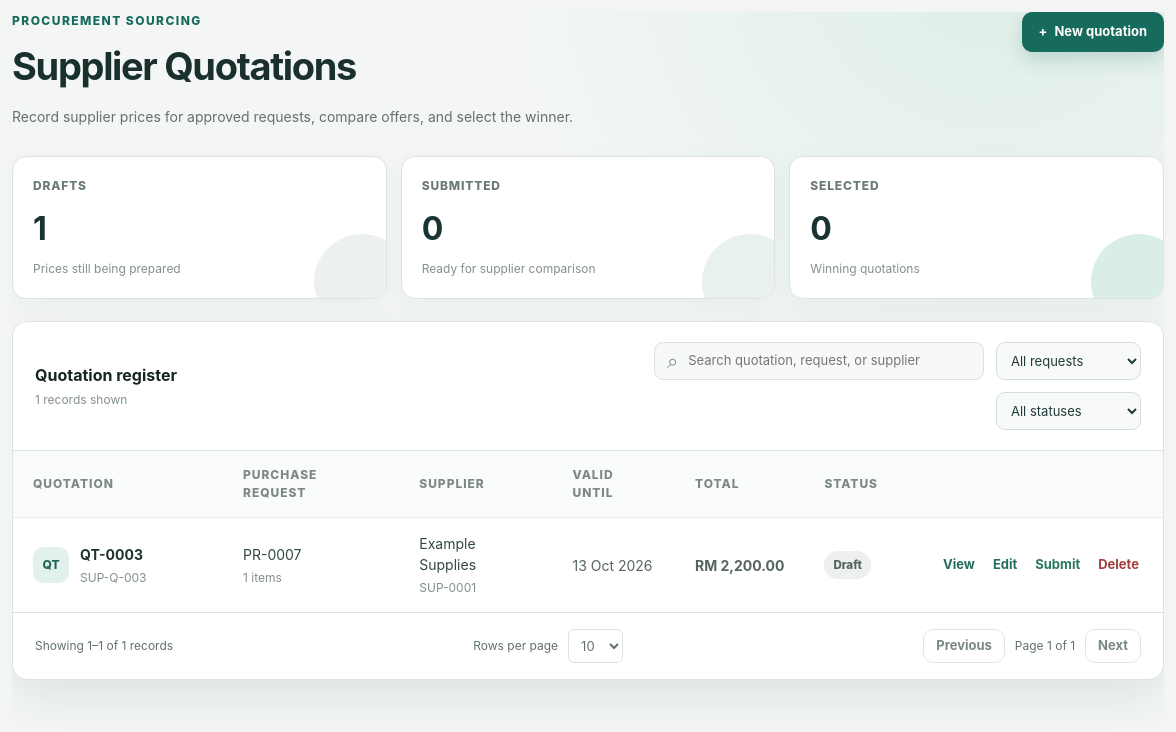
Test case: QuotationListView › submits a draft, shows a toast, and reloads the register
Click the button "Submit" at [1058, 565], box [1031, 551, 1084, 579]
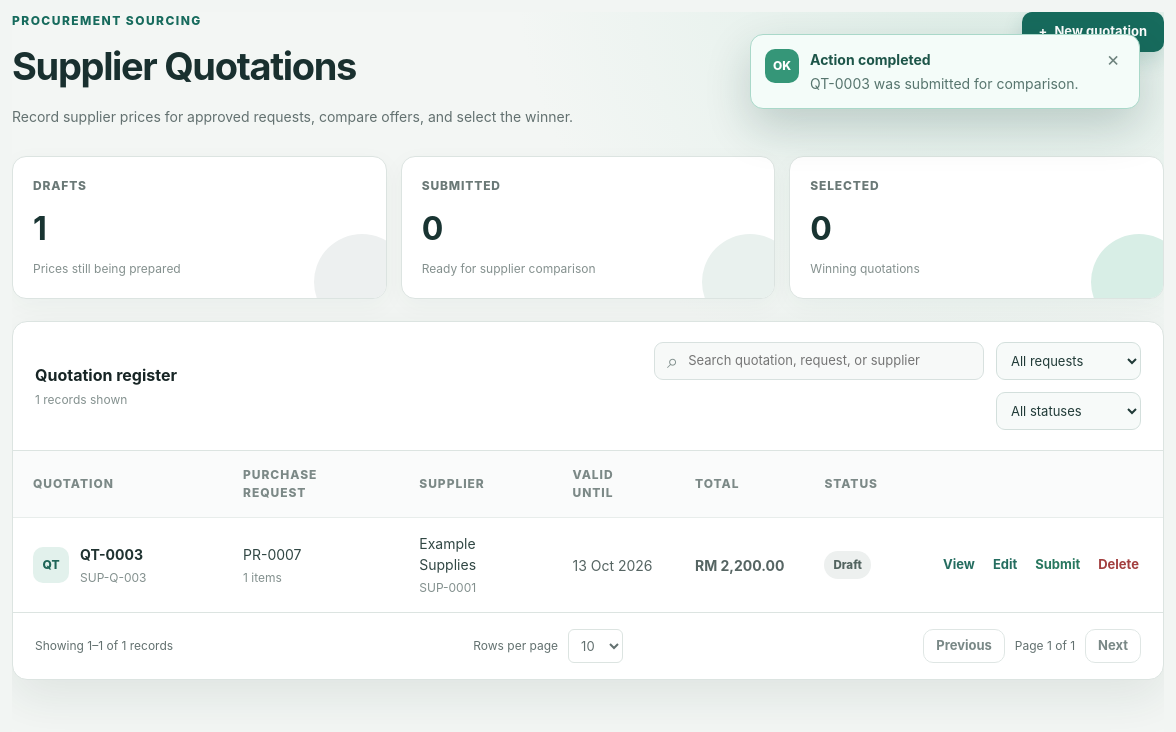
Result: the message with class "success-toast" shows "QT-0003 was submitted" at [810, 75, 1078, 92]
